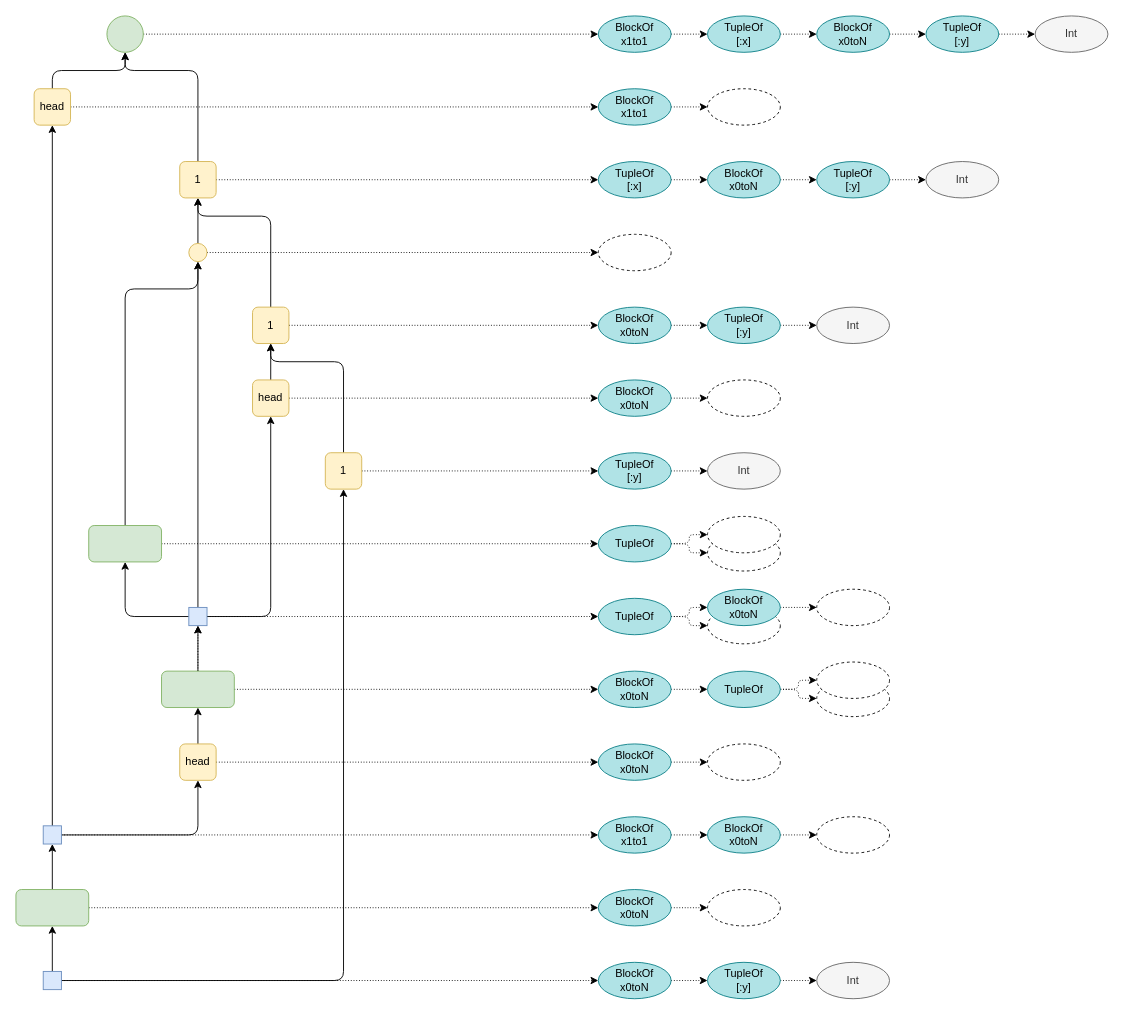
Image size: 1124x1015. Some labels were removed from this diagram. The shapes that lost their labels are listed below. From the top down, each one's centre as x and y in pixels, then its label:
At (125,543): "tuple_of(2)".
At (197,689): "distribute(1)".
At (52,907): "flatten()".
